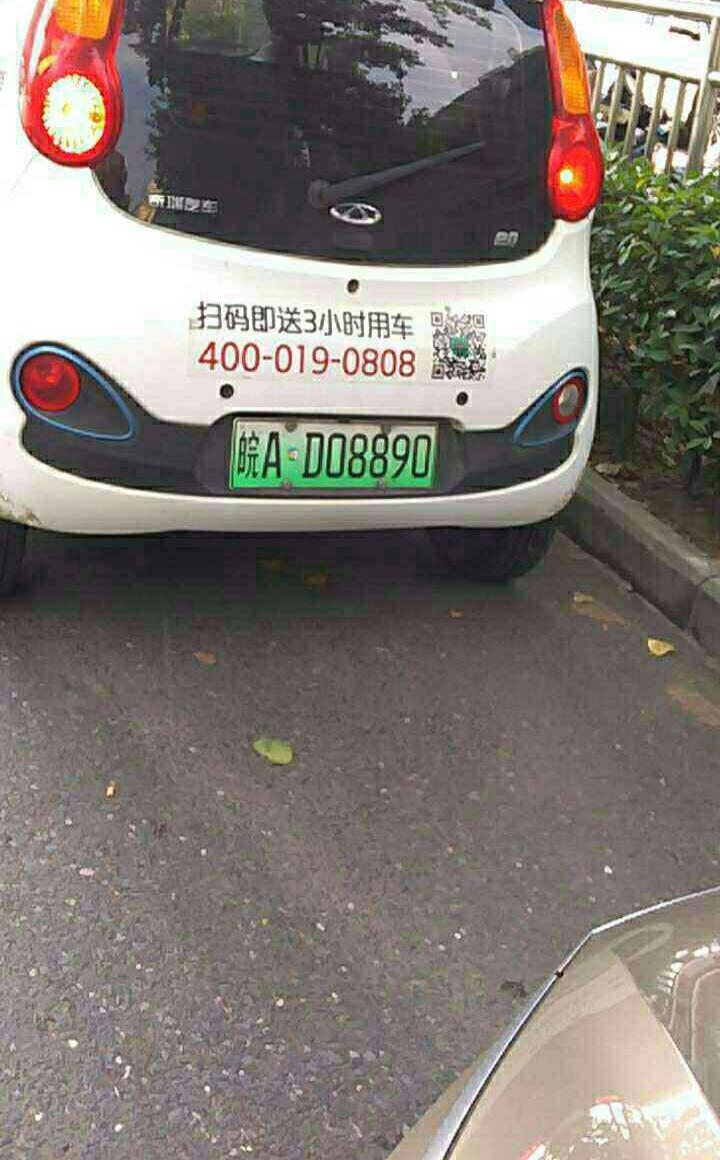car_id: (223, 411, 437, 490)
